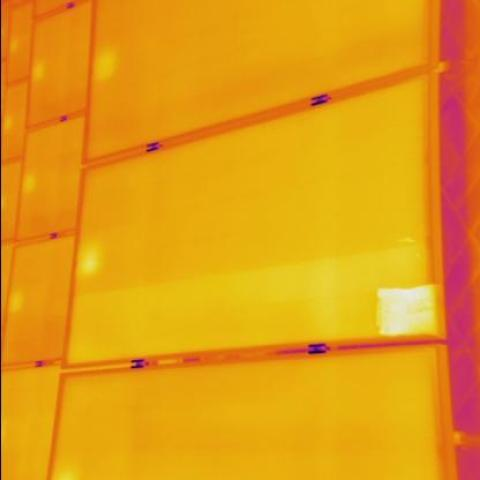fault: (379, 286, 441, 332), (77, 246, 100, 274)
